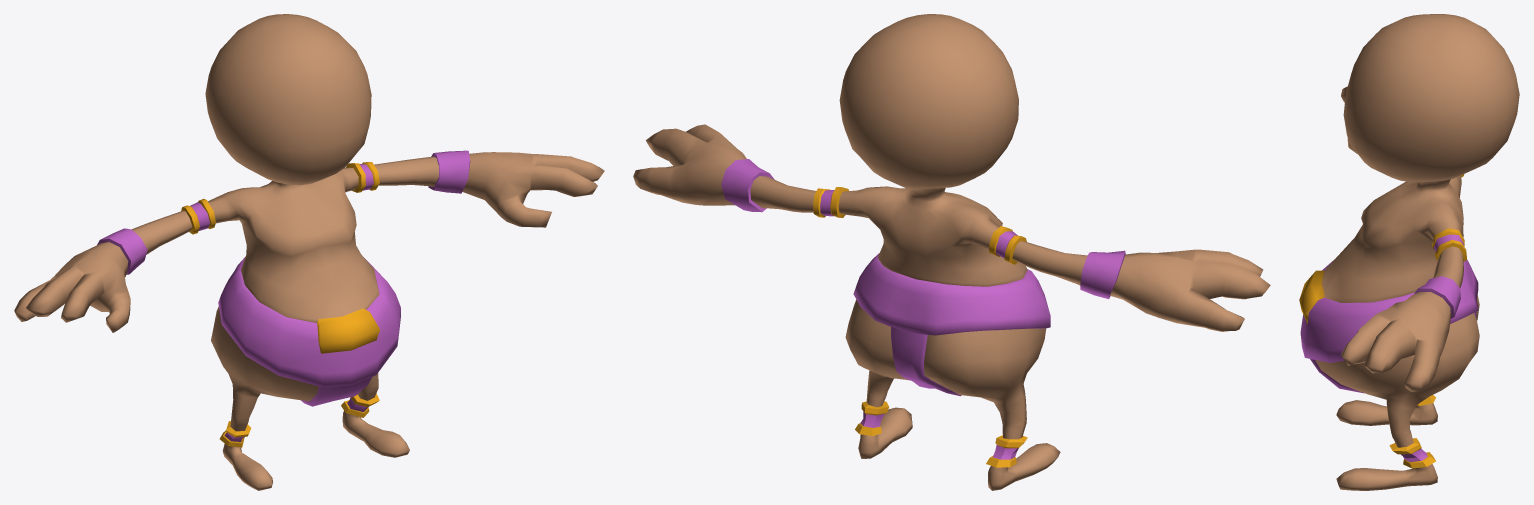
The model's file is SM_BodyTest2.FBX.
The picture shows the model from 3 angles, left to right: view 1: azimuth 30°, elevation 25°; view 2: azimuth 150°, elevation 25°; view 3: azimuth 270°, elevation 25°; orthographic projection. The views are drawn at different scales.
Parts seen in each view (by area): view 1: SM_Body; view 2: SM_Body; view 3: SM_Body.
Part boxes in pixels (x1,y1,x2,y2): SM_Body: [14, 14, 604, 490]; SM_Body: [633, 14, 1270, 490]; SM_Body: [1299, 14, 1519, 490].
Bounding box in the file's own units: 114 × 79.24 × 36.74.
